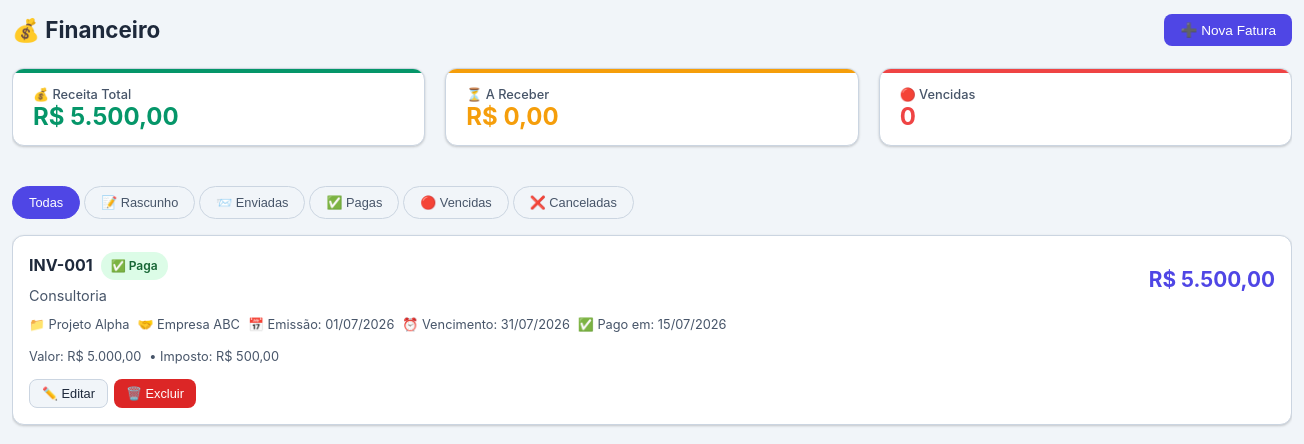
Test: Finance › shows confirm dialog when deleting
Click the button "🗑️ Excluir" at (155, 394), box [114, 380, 196, 408]
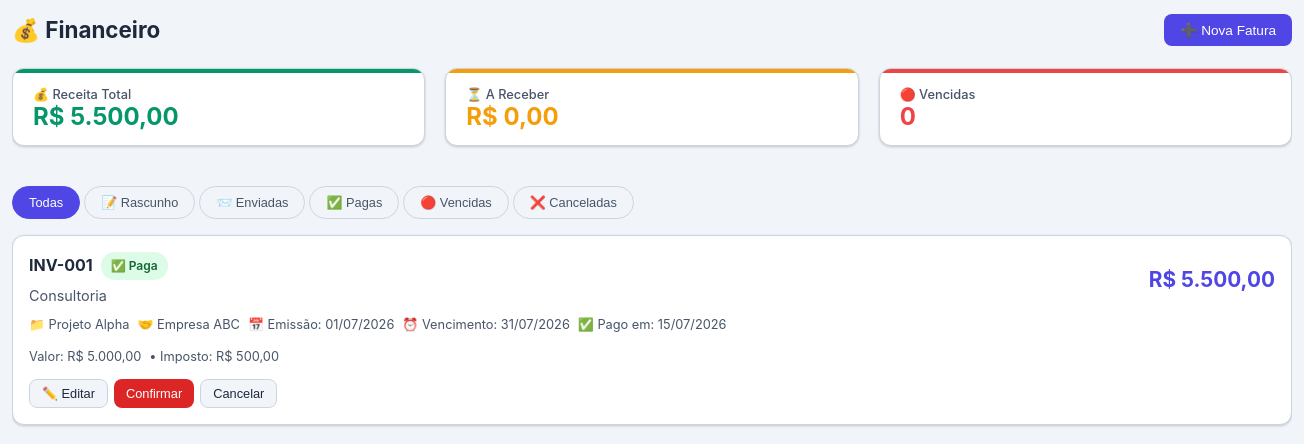
Now the button "Confirmar" is shown, box [114, 380, 194, 408]
Now the button "Cancelar" is shown, box [200, 380, 277, 408]
